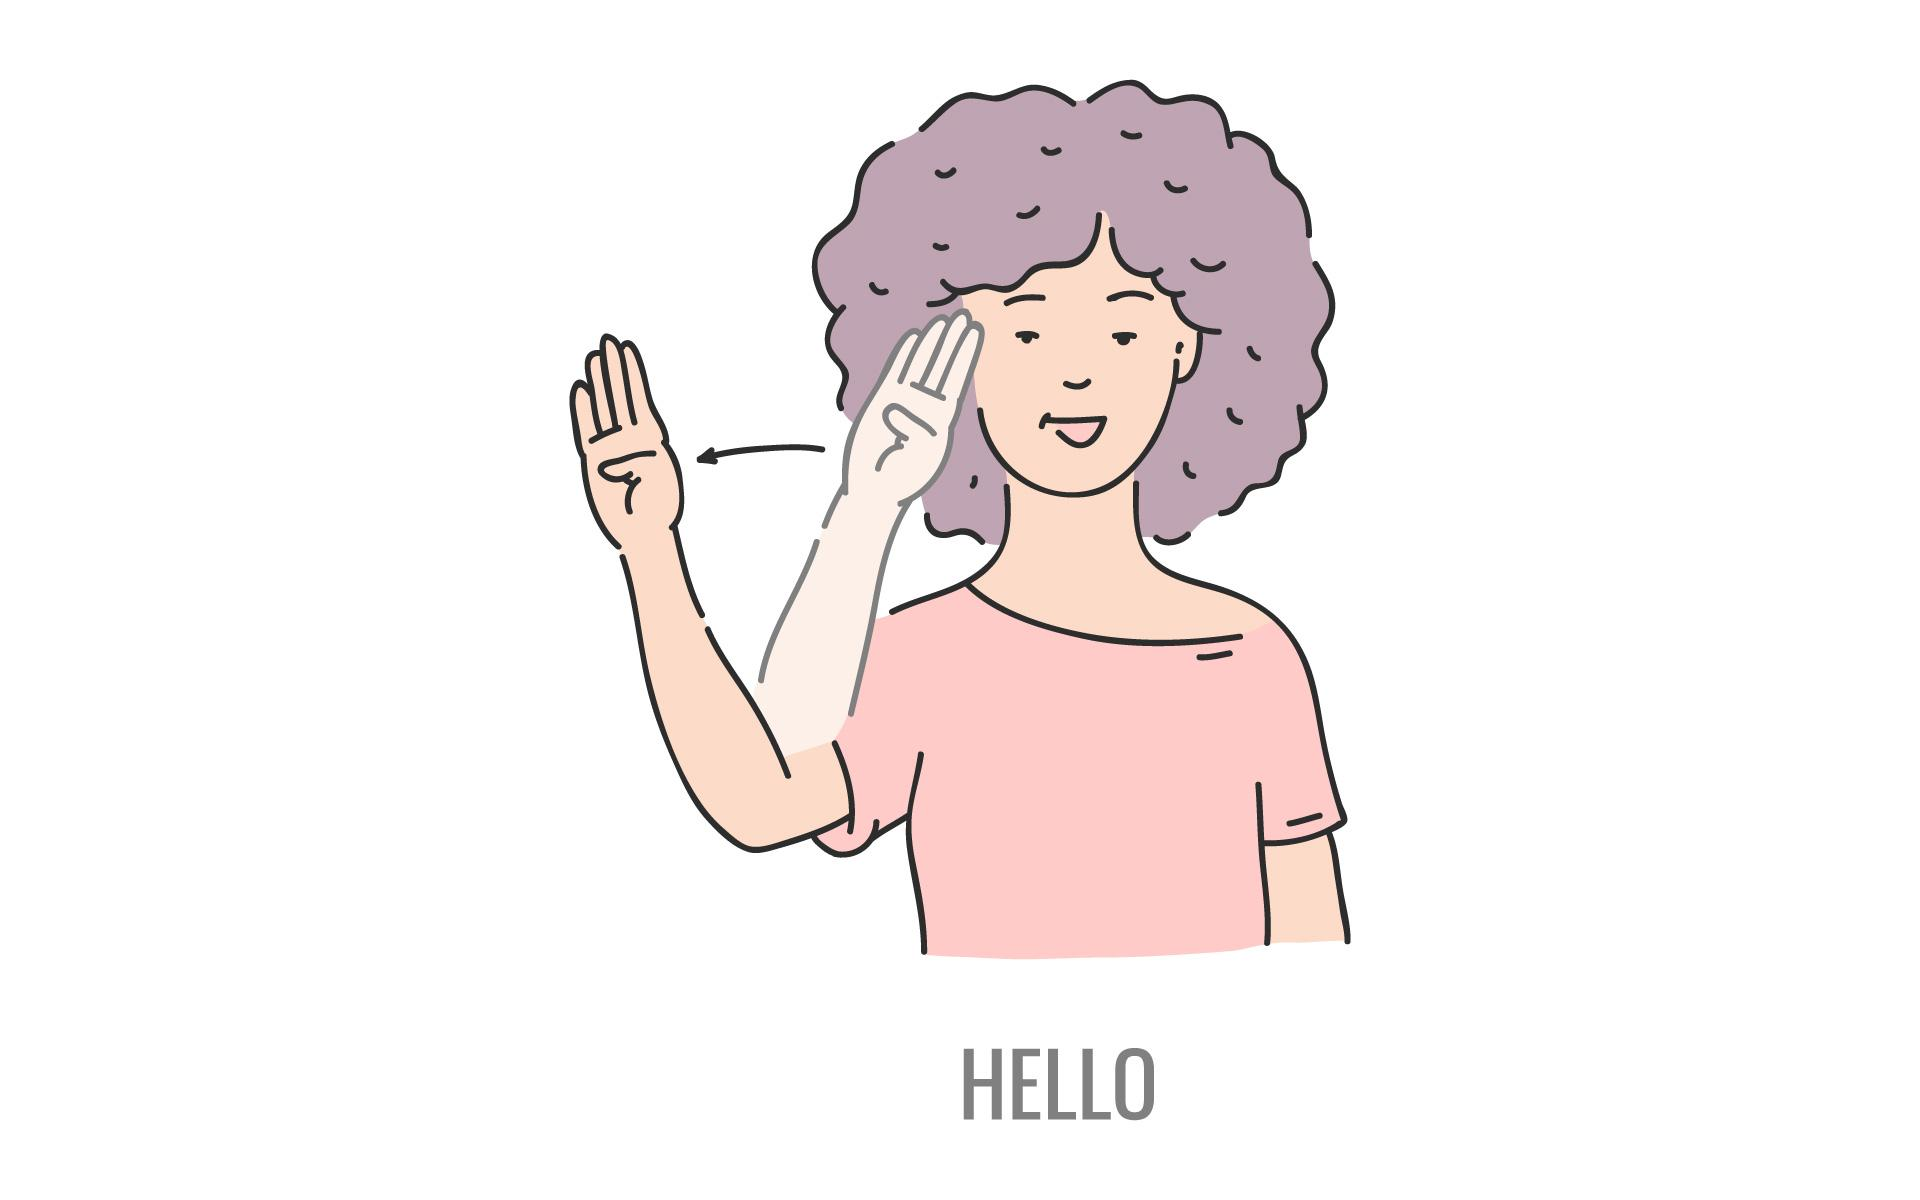Hello: (534, 328, 753, 650)
